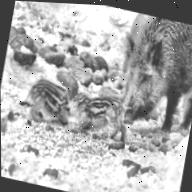boar: (103, 8, 192, 142), (60, 85, 133, 146), (23, 75, 77, 134)
